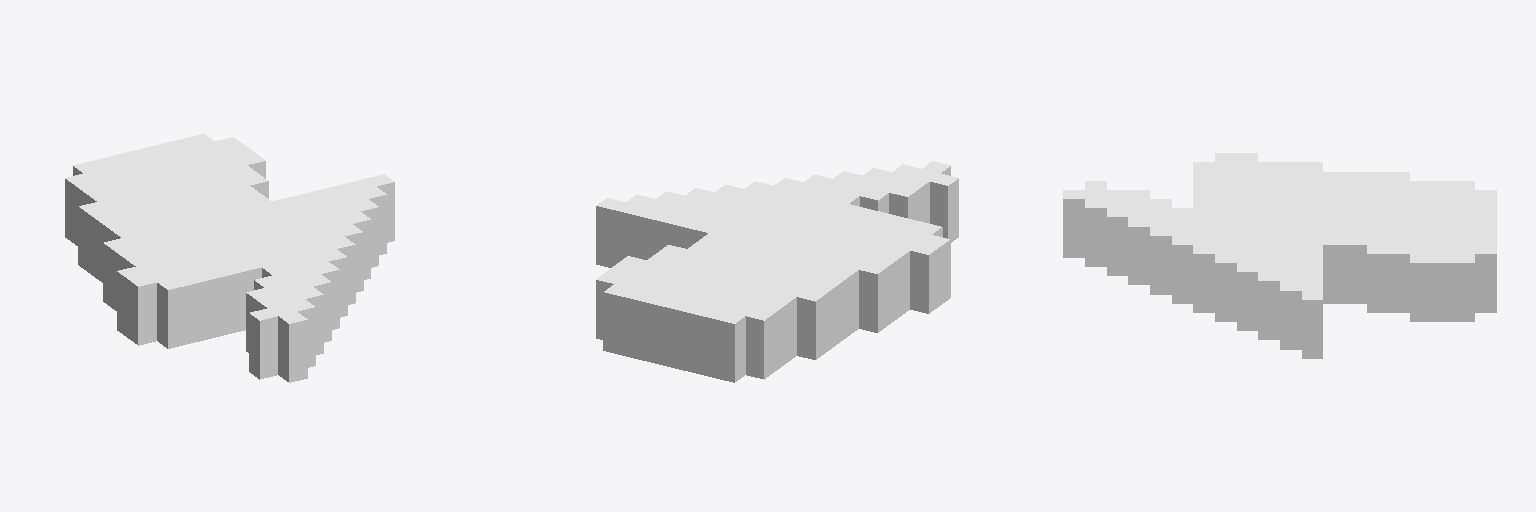
Rendered from nitro.obj.
3 views of the same model, side by side, from view 1: azimuth 30°, elevation 25°; view 2: azimuth 150°, elevation 25°; view 3: azimuth 270°, elevation 25° (orthographic).
Visible parts, largest first — view 1: object 1; view 2: object 1; view 3: object 1.
Boxes of the visible parts, box(x1,y1,x2,y2) form: object 1: box(65, 134, 394, 382); object 1: box(596, 161, 958, 382); object 1: box(1063, 153, 1496, 358).
Bounding box in the file's own units: 1.6 × 0.3 × 2.